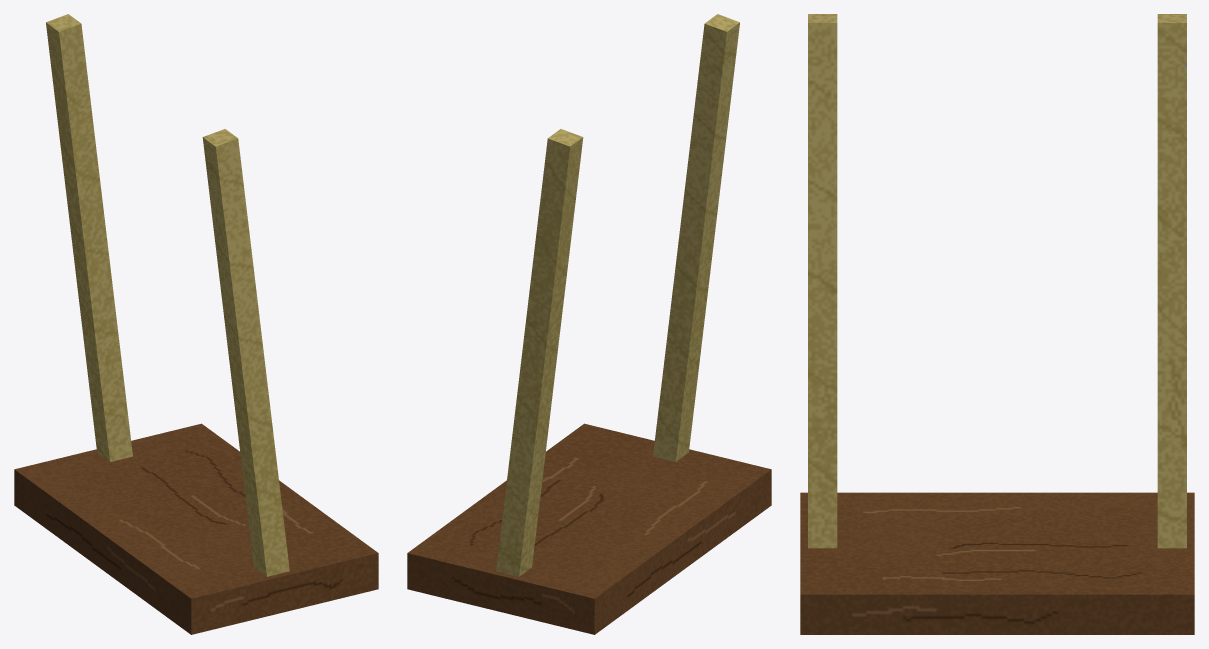
File: platforma_1.fbx
3 views of the same model, side by side, from view 1: azimuth 30°, elevation 25°; view 2: azimuth 150°, elevation 25°; view 3: azimuth 270°, elevation 25° (orthographic). The views are drawn at different scales.
Parts seen in each view (by area): view 1: Cube, Cube.001; view 2: Cube, Cube.001; view 3: Cube, Cube.001.
Boxes of the visible parts, bbox=[...] form: Cube: bbox=[14, 423, 378, 634]; Cube.001: bbox=[46, 14, 289, 576]; Cube: bbox=[407, 423, 771, 634]; Cube.001: bbox=[496, 14, 739, 576]; Cube: bbox=[800, 492, 1194, 634]; Cube.001: bbox=[808, 14, 1186, 548].
Bounding box in the file's own units: 485 × 1193 × 794.
